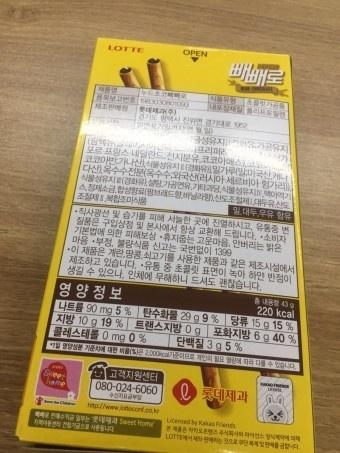snack: (12, 36, 316, 453)
